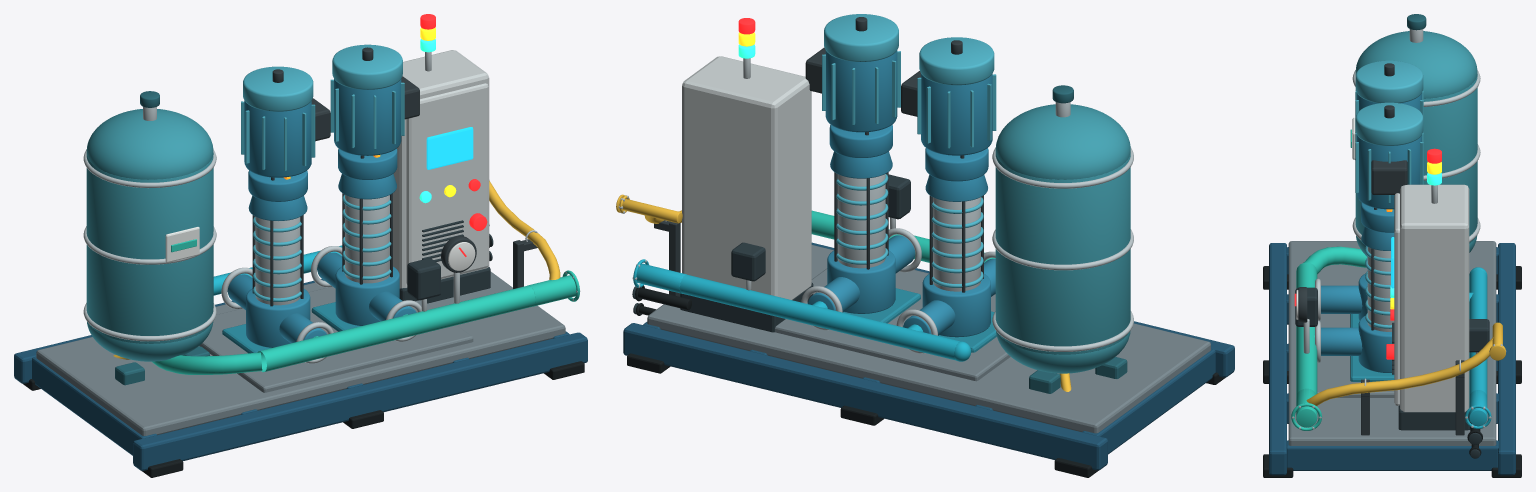
The model's file is pressurization-water-makeup-skid-generic-v1.glb.
The picture shows the model from 3 angles, left to right: view 1: azimuth 30°, elevation 25°; view 2: azimuth 150°, elevation 25°; view 3: azimuth 270°, elevation 25°; orthographic projection. The views are drawn at different scales.
Visible parts, largest first — view 1: PRESSURE_TANK_BODY, SKID_DECK, SKID_LONGITUDINAL_FRONT, CONTROL_CABINET_DOOR, PRESSURE_TANK_TOP_DOME, PUMP_DRIP_TRAY, PIPE_PRESSURIZED_WATER_DISCHARGE_HEADER, CONTROL_CABINET_BODY, MAKEUP_PUMP_A_MOTOR_BODY, MAKEUP_PUMP_B_MOTOR_BODY, SKID_CROSSMEMBER_1, MAKEUP_PUMP_A_STAGE_STACK (+28 smaller); view 2: CONTROL_CABINET_BODY, PRESSURE_TANK_BODY, SKID_DECK, SKID_LONGITUDINAL_REAR, PRESSURE_TANK_TOP_DOME, PIPE_MAKEUP_WATER_SUCTION_HEADER, PUMP_DRIP_TRAY, MAKEUP_PUMP_B_MOTOR_BODY, MAKEUP_PUMP_A_MOTOR_BODY, SKID_CROSSMEMBER_1, MAKEUP_PUMP_B_STAGE_STACK, MAKEUP_PUMP_A_STAGE_STACK (+26 smaller); view 3: CONTROL_CABINET_BODY, SKID_DECK, SKID_CROSSMEMBER_5, PRESSURE_TANK_BODY, PRESSURE_TANK_TOP_DOME, SKID_LONGITUDINAL_FRONT, SKID_LONGITUDINAL_REAR, MAKEUP_PUMP_B_MOTOR_FAN_COWL, MAKEUP_PUMP_A_MOTOR_FAN_COWL, PIPE_RELIEF_CONNECTION, MAKEUP_PUMP_B_MOTOR_BODY, PUMP_DRIP_TRAY (+26 smaller).
Part boxes in pixels (x1,y1,x2,y2): PRESSURE_TANK_BODY: [86, 153, 213, 343]; SKID_DECK: [36, 271, 565, 435]; SKID_LONGITUDINAL_FRONT: [133, 332, 587, 470]; CONTROL_CABINET_DOOR: [406, 83, 488, 284]; PRESSURE_TANK_TOP_DOME: [86, 109, 213, 179]; PUMP_DRIP_TRAY: [199, 286, 473, 392]; PIPE_PRESSURIZED_WATER_DISCHARGE_HEADER: [257, 282, 555, 372]; CONTROL_CABINET_BODY: [393, 50, 489, 288]; MAKEUP_PUMP_A_MOTOR_BODY: [244, 100, 311, 177]; MAKEUP_PUMP_B_MOTOR_BODY: [334, 79, 401, 155]; SKID_CROSSMEMBER_1: [32, 356, 156, 455]; MAKEUP_PUMP_A_STAGE_STACK: [255, 216, 300, 305]; CONTROL_CABINET_BODY: [682, 56, 811, 299]; PRESSURE_TANK_BODY: [995, 152, 1130, 354]; SKID_DECK: [647, 245, 1210, 433]; SKID_LONGITUDINAL_REAR: [623, 323, 1107, 470]; PRESSURE_TANK_TOP_DOME: [995, 104, 1130, 179]; PIPE_MAKEUP_WATER_SUCTION_HEADER: [659, 270, 959, 360]; PUMP_DRIP_TRAY: [775, 268, 1010, 381]; MAKEUP_PUMP_B_MOTOR_BODY: [825, 50, 897, 132]; MAKEUP_PUMP_A_MOTOR_BODY: [921, 74, 992, 155]; SKID_CROSSMEMBER_1: [1082, 348, 1215, 454]; MAKEUP_PUMP_B_STAGE_STACK: [837, 174, 885, 268]; MAKEUP_PUMP_A_STAGE_STACK: [933, 197, 980, 291]; CONTROL_CABINET_BODY: [1400, 184, 1469, 412]; SKID_DECK: [1288, 241, 1496, 445]; SKID_CROSSMEMBER_5: [1286, 440, 1498, 470]; PRESSURE_TANK_BODY: [1355, 74, 1477, 243]; PRESSURE_TANK_TOP_DOME: [1355, 31, 1477, 98]; SKID_LONGITUDINAL_FRONT: [1269, 243, 1286, 475]; SKID_LONGITUDINAL_REAR: [1498, 243, 1515, 475]; MAKEUP_PUMP_B_MOTOR_FAN_COWL: [1355, 102, 1423, 145]; MAKEUP_PUMP_A_MOTOR_FAN_COWL: [1355, 60, 1423, 103]; PIPE_RELIEF_CONNECTION: [1306, 337, 1493, 405]; MAKEUP_PUMP_B_MOTOR_BODY: [1357, 135, 1421, 209]; PUMP_DRIP_TRAY: [1317, 314, 1394, 397].
Bounding box in the file's own units: 3.38 × 2.2 × 1.72.
